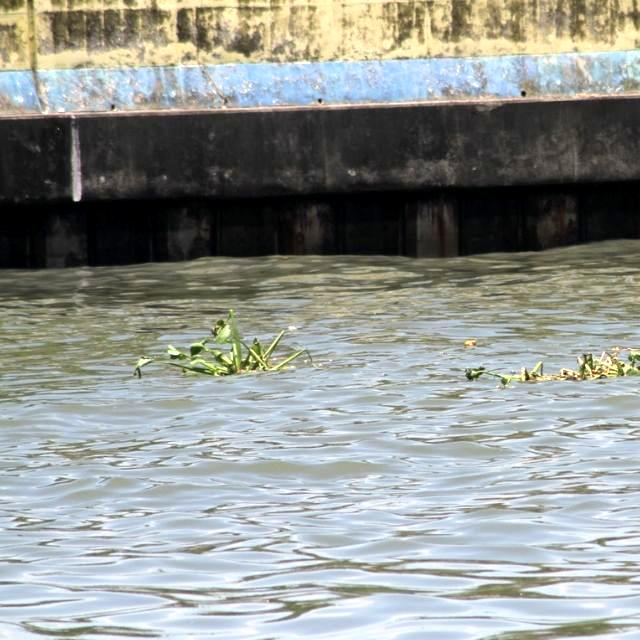water-hyacinth: (128, 313, 315, 377), (459, 350, 640, 382)
